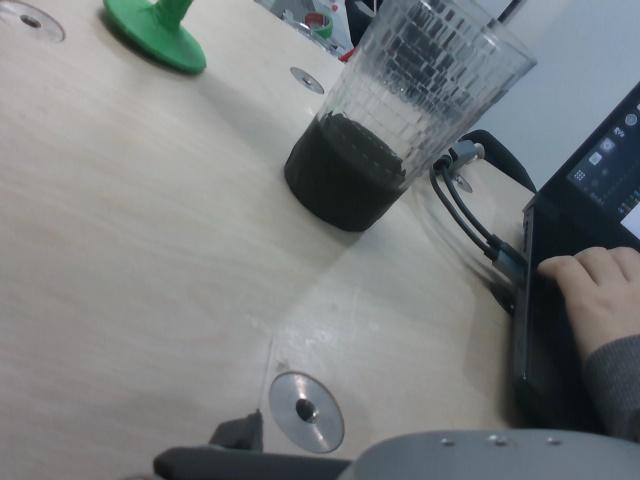black_cup: (282, 111, 408, 235)
green_cup: (103, 0, 207, 74)
